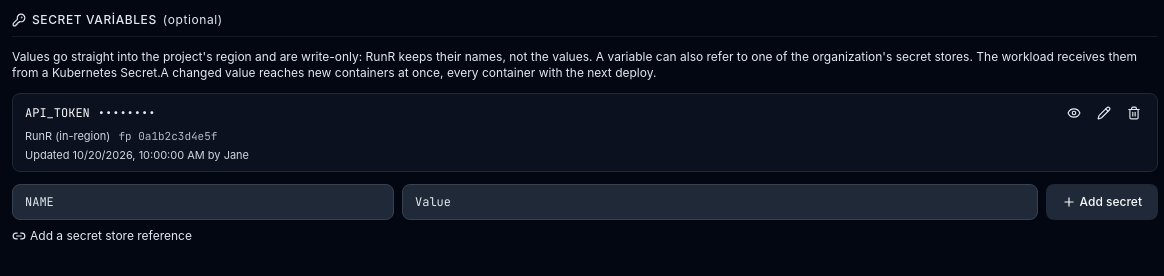
Test: SecretEnvVarsEditor — where values live (pass-through, secret stores) › shows the region's answer when the value cannot be read there
Click the button with test id "secret-reveal-API_TOKEN" at [1074, 113], box [1063,102,1085,124]
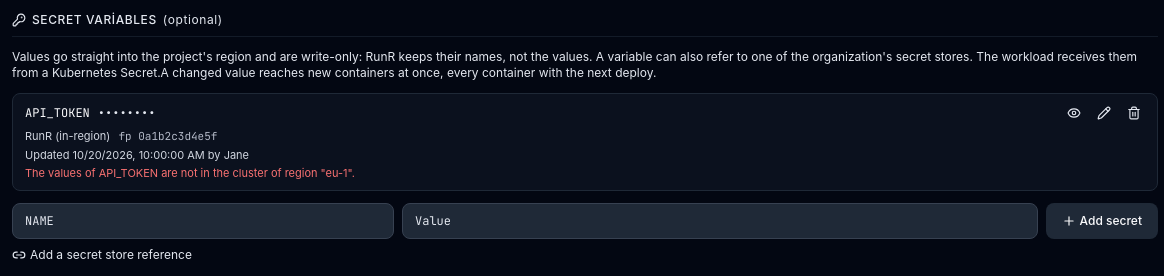
Expected: the text with test id "secret-value-API_TOKEN" reads "••••••••", [98,105,155,121]
Now the text with test id "secret-row-error-API_TOKEN" shows "not in the cluster of region \"eu-1\"", box [25,166,355,180]
